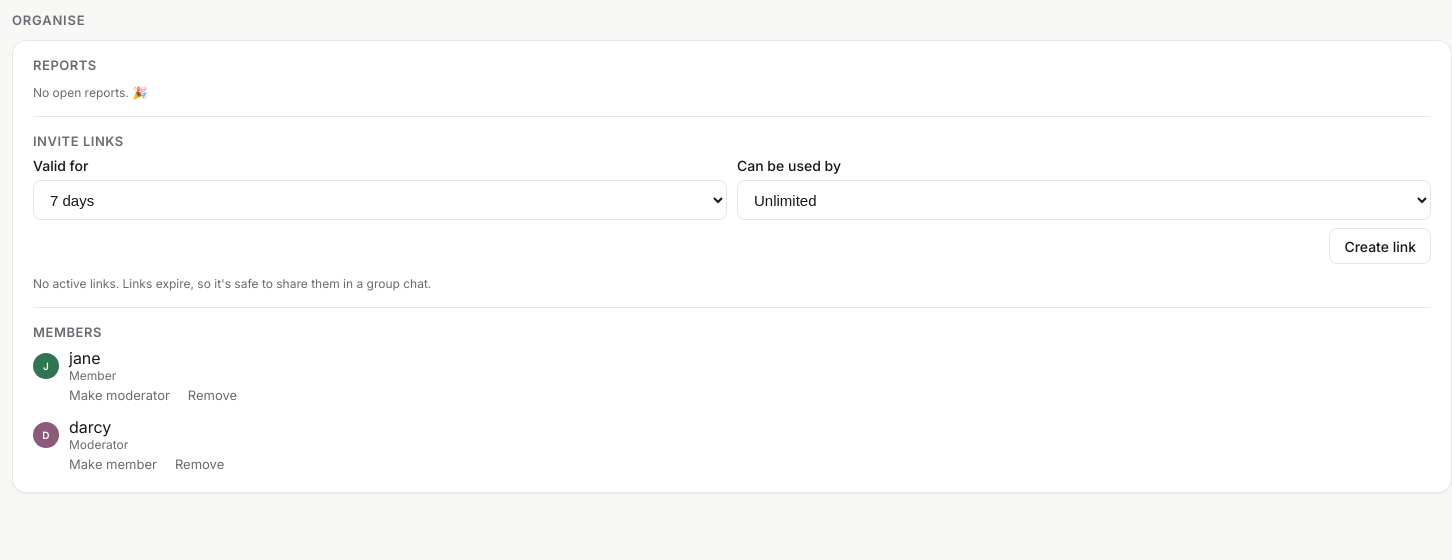
Test: members › a failed change shows the error
Click the button with aria-label "Remove jane" at (213, 395), box [180,383,245,407]
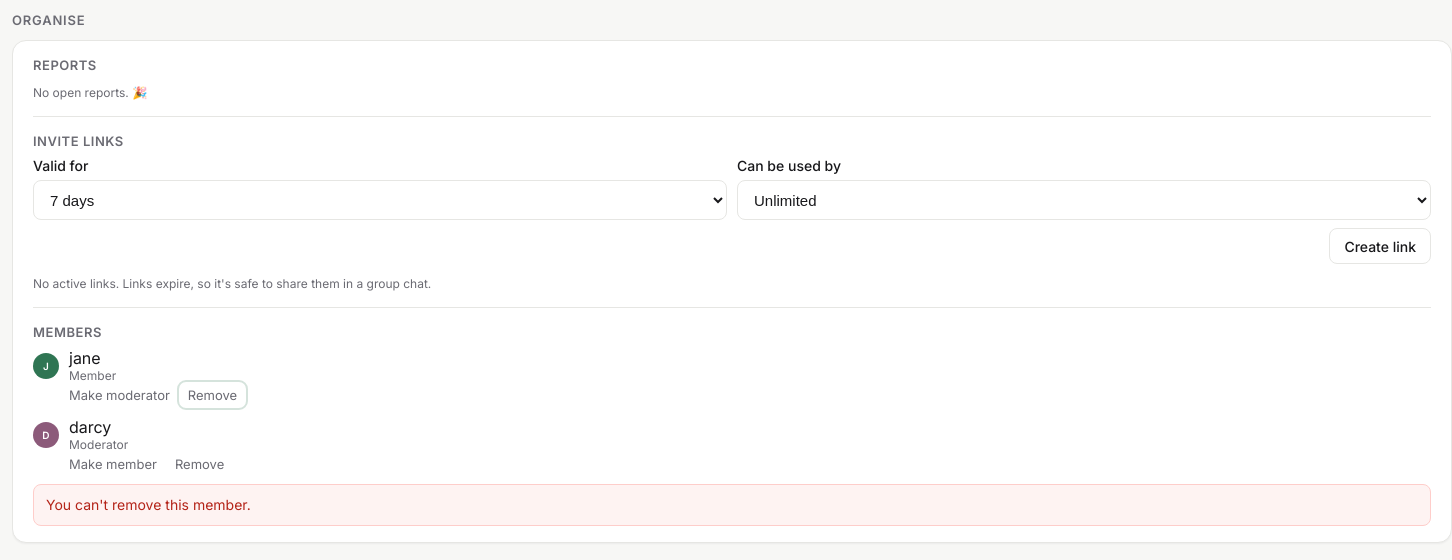
expect the message reads "You can't remove this member.": met, box [46,496,251,513]
